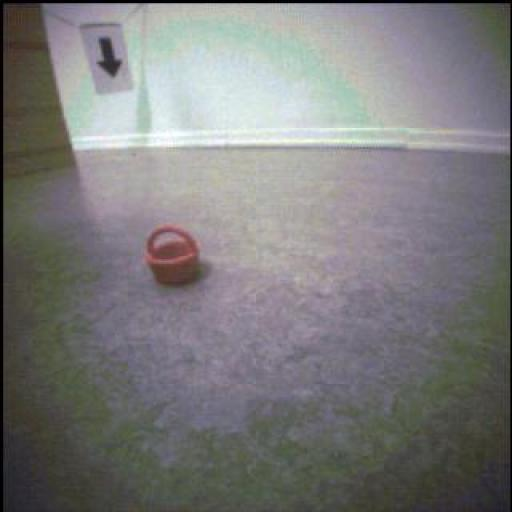Arrow: (99, 39, 123, 78)
Bucket: (147, 225, 200, 286)
